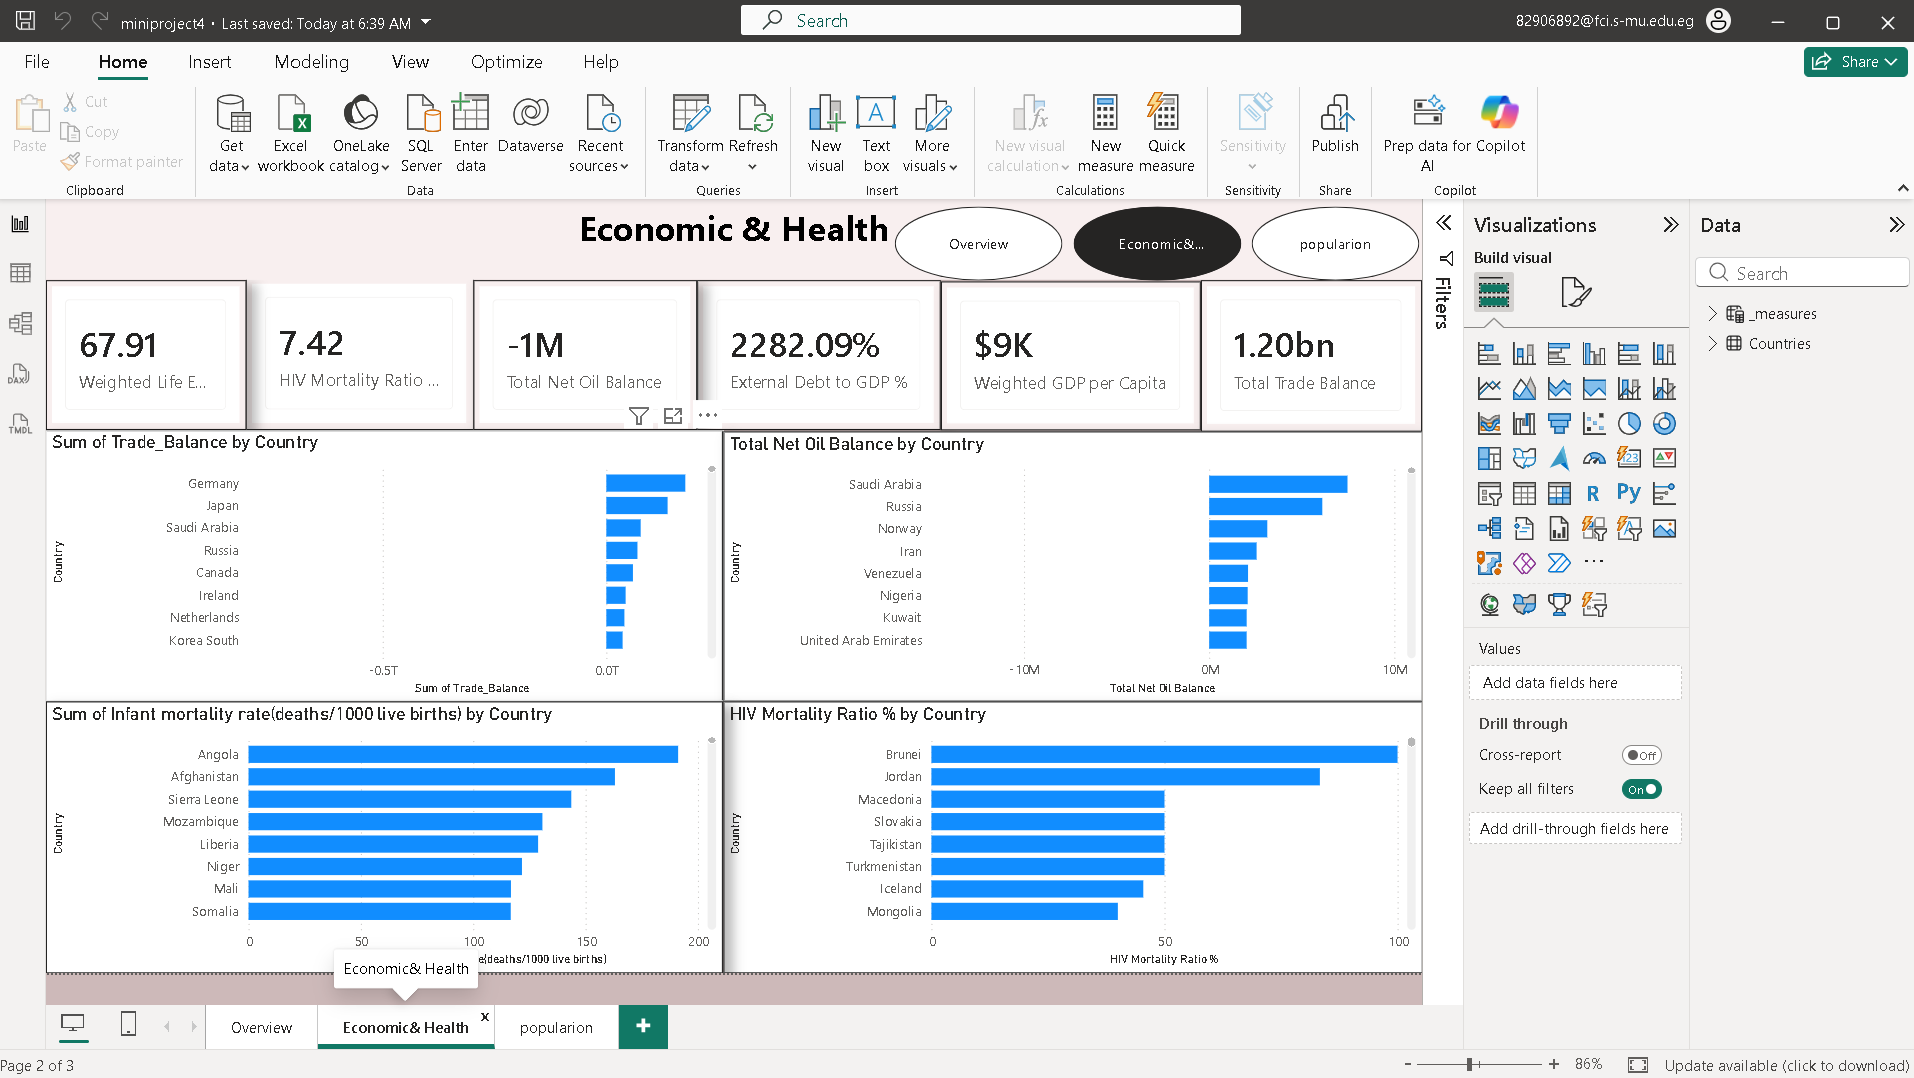

The dashboard page shown, as its layout file describes it:
{"tool":"powerbi","page":{"name":"Economic& Health","canvas":[1280,720],"ordinal":1},"visuals":[{"type":"cardVisual","fields":{"Data":["_measures.HIV Mortality Ratio %"]},"box":[186,73.3,211.6,141.9],"z":0},{"type":"cardVisual","fields":{"Data":["_measures.External Debt to GDP %"]},"box":[605.8,75.6,226.7,139.5],"z":1000},{"type":"cardVisual","fields":{"Data":["_measures.Total Net Oil Balance"]},"box":[397.7,75.6,208.1,139.5],"z":2000},{"type":"cardVisual","fields":{"Data":["_measures.Weighted GDP per Capita"]},"box":[832.6,76.7,241.9,138.4],"z":3000},{"type":"cardVisual","fields":{"Data":["_measures.Total Trade Balance"]},"box":[1074.4,75.6,205.8,140.7],"z":4000},{"type":"cardVisual","fields":{"Data":["_measures.Weighted Life Expectancy"]},"box":[0,75.6,186,139.5],"z":5000},{"type":"textbox","box":[0,0,1280.3,75.5],"z":6000},{"type":"clusteredBarChart","fields":{"Category":["Countries.Country"],"Y":["Sum(Countries.Trade_Balance)"]},"box":[0,215.4,629.8,252.5],"z":7000},{"type":"clusteredBarChart","fields":{"Y":["_measures.Total Net Oil Balance"],"Category":["Countries.Country"]},"box":[629.8,216.8,650.4,251.1],"z":8000},{"type":"clusteredBarChart","fields":{"Category":["Countries.Country"],"Y":["_measures.HIV Mortality Ratio %"]},"box":[629.8,467.9,650.4,252.5],"z":9000},{"type":"clusteredBarChart","fields":{"Category":["Countries.Country"],"Y":["Sum(Countries.Infant mortality rate(deaths/1000 live births))"]},"box":[0,467.9,629.8,252.5],"z":10000},{"type":"pageNavigator","box":[789.5,7,490.7,69.8],"z":10001}]}

Visuals, with their boxes on the page's 1280x720 design canvas (x1, y1, x2, y2). These are canvas units, not pixel positions in the 1914x1078 screenshot, which may show the page scaled, cropped or inside an application window:
cardVisual - _measures.HIV Mortality Ratio %: crop(186, 73, 398, 215)
cardVisual - _measures.External Debt to GDP %: crop(606, 76, 832, 215)
cardVisual - _measures.Total Net Oil Balance: crop(398, 76, 606, 215)
cardVisual - _measures.Weighted GDP per Capita: crop(833, 77, 1074, 215)
cardVisual - _measures.Total Trade Balance: crop(1074, 76, 1280, 216)
cardVisual - _measures.Weighted Life Expectancy: crop(0, 76, 186, 215)
textbox: crop(0, 0, 1280, 76)
clusteredBarChart - Countries.Country x Sum(Countries.Trade_Balance): crop(0, 215, 630, 468)
clusteredBarChart - _measures.Total Net Oil Balance x Countries.Country: crop(630, 217, 1280, 468)
clusteredBarChart - Countries.Country x _measures.HIV Mortality Ratio %: crop(630, 468, 1280, 720)
clusteredBarChart - Countries.Country x Sum(Countries.Infant mortality rate(deaths/1000 live births)): crop(0, 468, 630, 720)
pageNavigator: crop(790, 7, 1280, 77)
